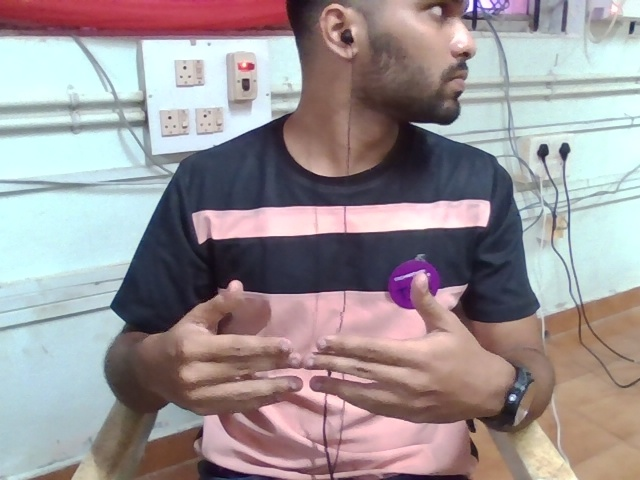more: (121, 245, 464, 480)
